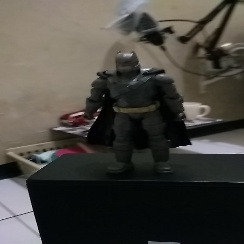batman: (83, 52, 182, 173)
